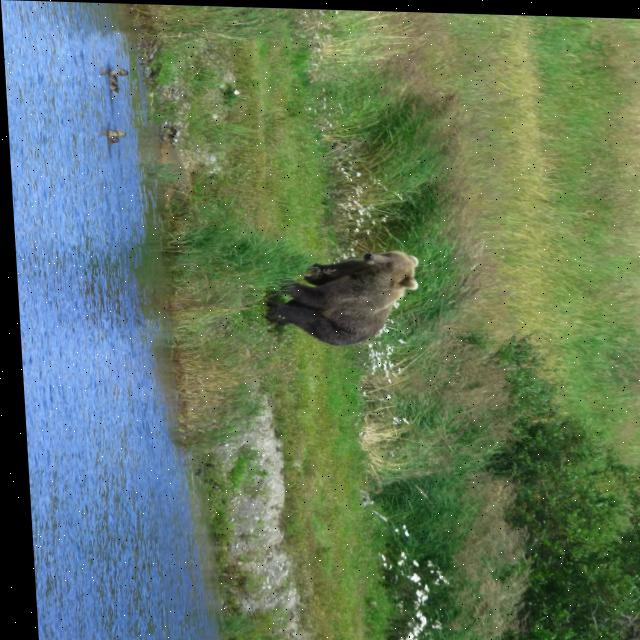bear face: (256, 246, 423, 344)
